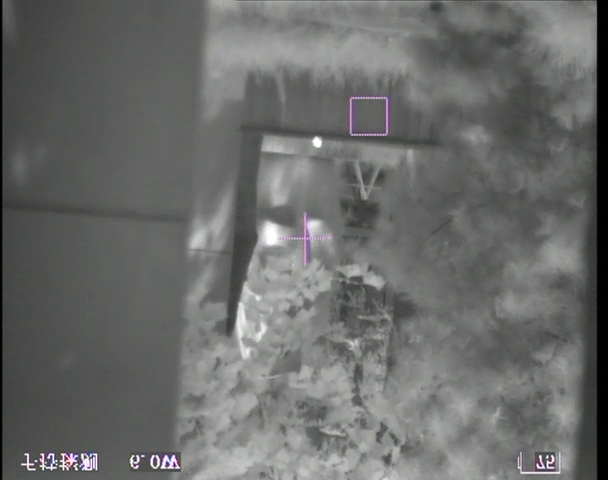my: (311, 135, 323, 149)
